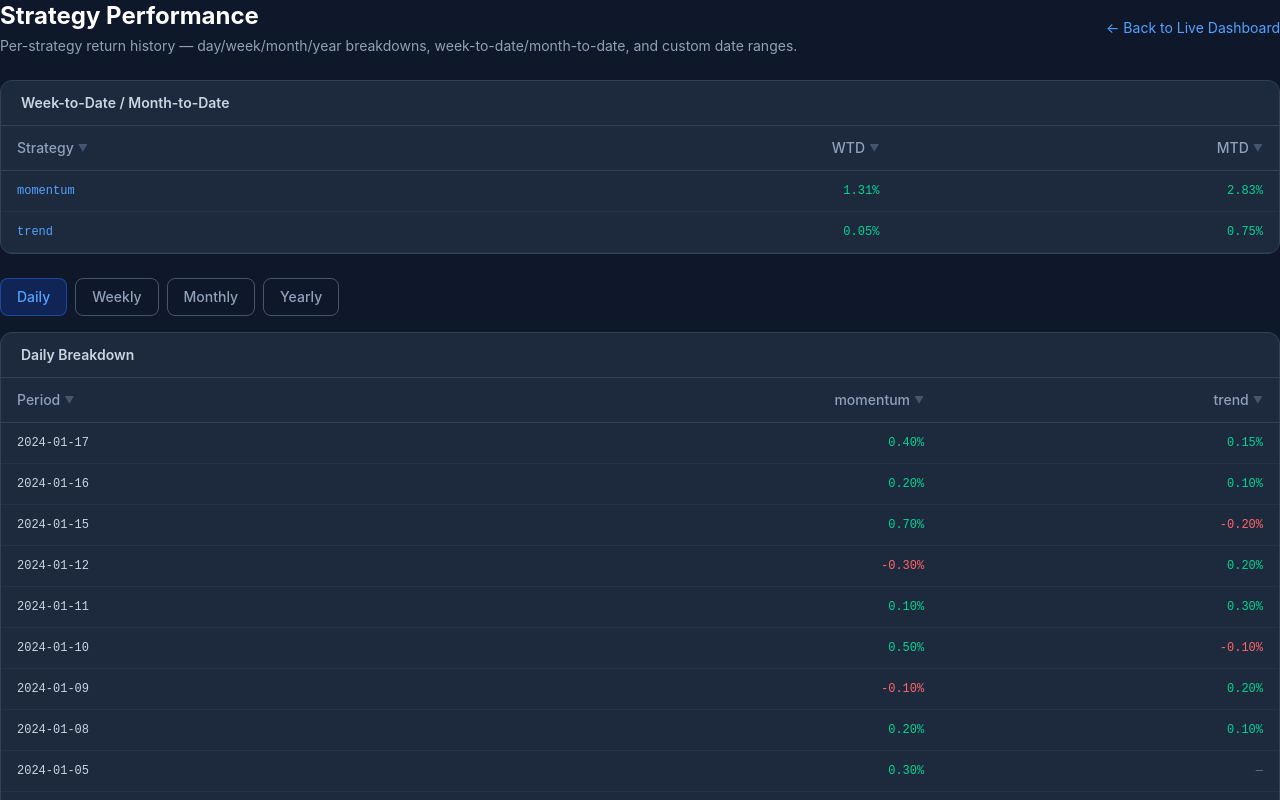
Test: AttributionHistory › switches to the weekly breakdown and shows a week-of row for each strategy
The width and height of the screenshot is (1280, 800).
Expected: the heading "Week-to-Date / Month-to-Date" is shown, [21, 94, 230, 111]
Click the button "Weekly" at (117, 297), box [75, 278, 159, 316]
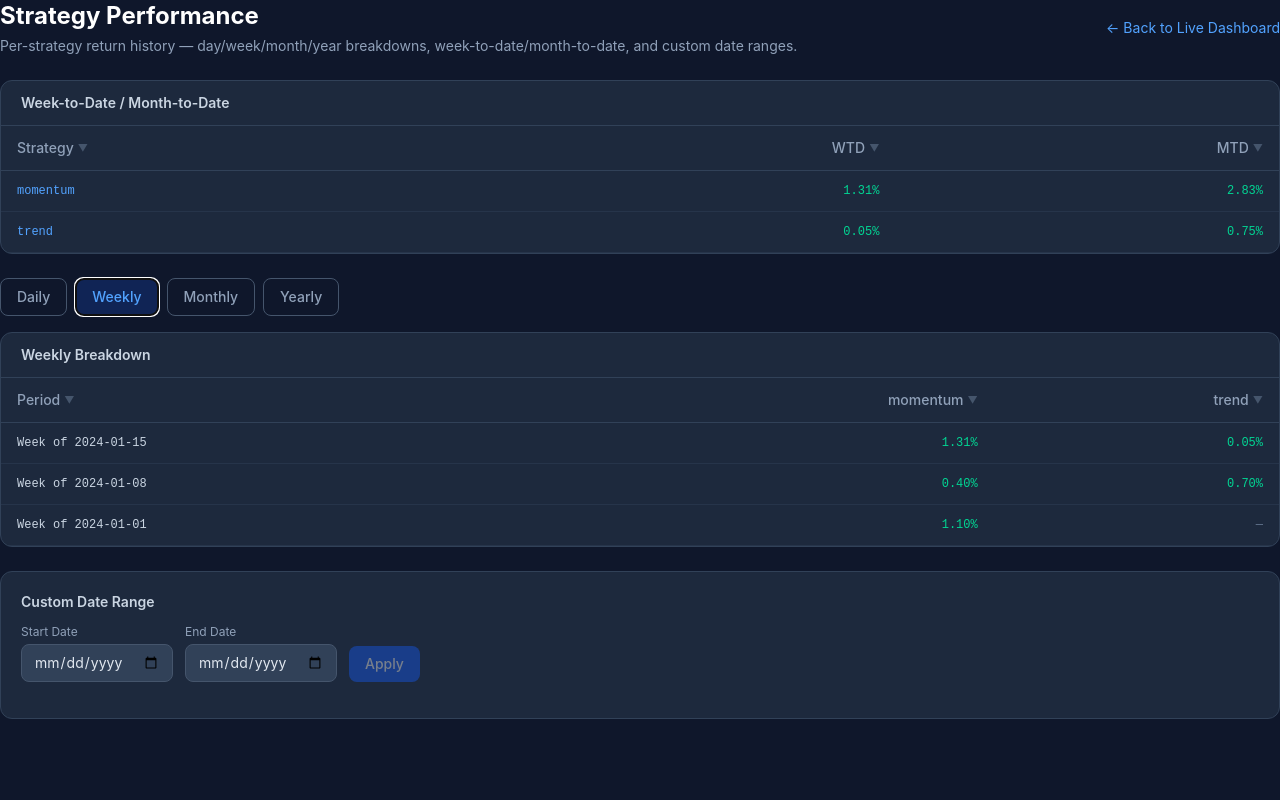
Result: the heading "Weekly Breakdown" is shown at [21, 346, 151, 363]
Result: the text "Week of 2024-01-15" is shown at [1, 422, 567, 464]
Result: the text "Week of 2024-01-08" is shown at [1, 464, 567, 504]
